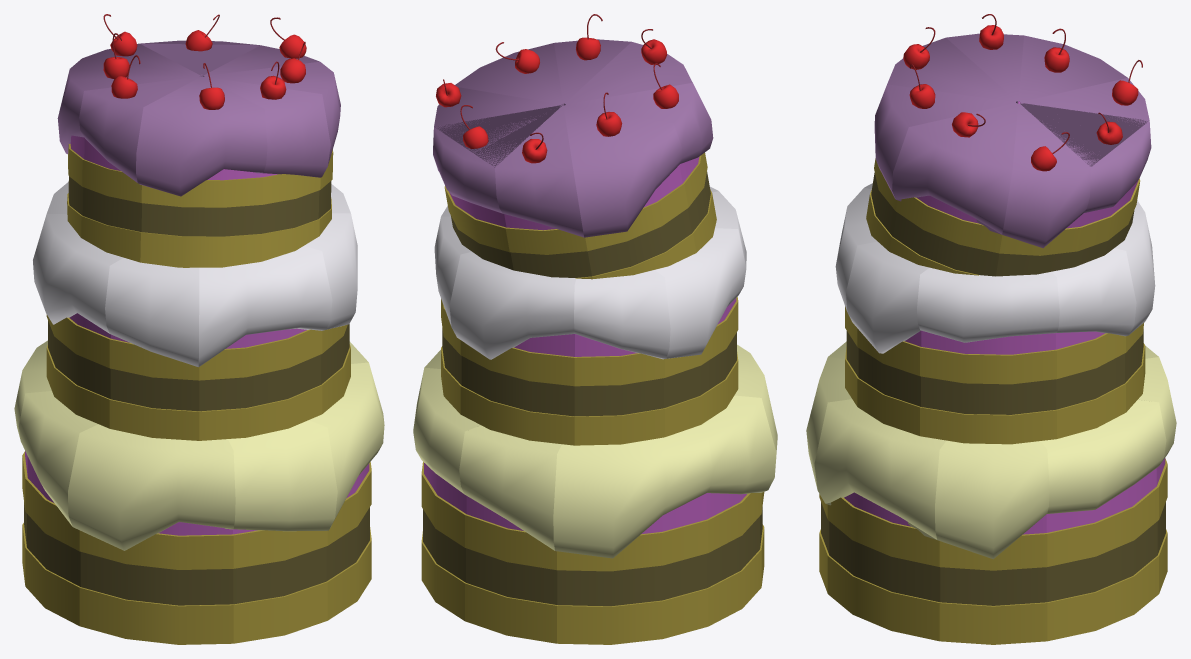
Rendered from Cake_02_(001).fbx.
The picture shows the model from 3 angles, left to right: view 1: azimuth 30°, elevation 25°; view 2: azimuth 150°, elevation 25°; view 3: azimuth 270°, elevation 25°; orthographic projection.
Parts seen in each view (by area): view 1: CAKE_P_003, CAKE_P_012, CAKE_P_018, CAKE_P_004, CAKE_P_011, CAKE_P_010, CAKE_P_002, CAKE_P_005, CAKE_P_017, CAKE_P_019, CAKE_P_013, CAKE_P_016 (+11 smaller); view 2: CAKE_P_001 (×3), CAKE_P_008, CAKE_P_016, CAKE_P_009, CAKE_P_010, CAKE_P_002, CAKE_P_007, CAKE_P_022, CAKE_P_017, CAKE_P_018, CAKE_P_015, CAKE_P_020 (+11 smaller); view 3: CAKE_P_005, CAKE_P_014, CAKE_P_007, CAKE_P_006, CAKE_P_020, CAKE_P_015, CAKE_P_013, CAKE_P_021, CAKE_P_022, CAKE_P_001 (×2), CAKE_P_019, CAKE_P_016 (+12 smaller).
Part boxes in pixels (x1,y1,x2,y2): CAKE_P_003: (68,424,235,644); CAKE_P_012: (198,246,332,440); CAKE_P_018: (136,77,267,267); CAKE_P_004: (228,420,337,643); CAKE_P_011: (105,257,199,440); CAKE_P_010: (33,214,123,428); CAKE_P_002: (18,391,98,625); CAKE_P_005: (309,362,384,620); CAKE_P_017: (79,76,200,262); CAKE_P_019: (204,76,330,261); CAKE_P_013: (304,213,357,413); CAKE_P_016: (57,58,199,237); CAKE_P_001 (×3): (449,106,712,644); CAKE_P_008: (459,425,561,643); CAKE_P_016: (563,105,696,278); CAKE_P_009: (574,270,670,445); CAKE_P_010: (655,228,746,436); CAKE_P_002: (691,395,776,626); CAKE_P_007: (413,367,480,620); CAKE_P_022: (433,105,561,270); CAKE_P_017: (565,82,716,252); CAKE_P_018: (565,42,711,193); CAKE_P_015: (434,216,471,414); CAKE_P_020: (455,43,564,105); CAKE_P_005: (814,399,946,641); CAKE_P_014: (917,267,1059,444); CAKE_P_007: (1041,399,1166,641); CAKE_P_006: (935,440,1049,644); CAKE_P_020: (889,103,1018,276); CAKE_P_015: (1051,248,1136,438); CAKE_P_013: (846,241,929,435); CAKE_P_021: (996,103,1090,276); CAKE_P_022: (1020,103,1151,266); CAKE_P_001 (×2): (1020,78,1155,412); CAKE_P_019: (866,84,1015,251); CAKE_P_016: (1018,35,1127,103).
Size of the model in its own units: 2.79 by 4.38 by 2.77.
